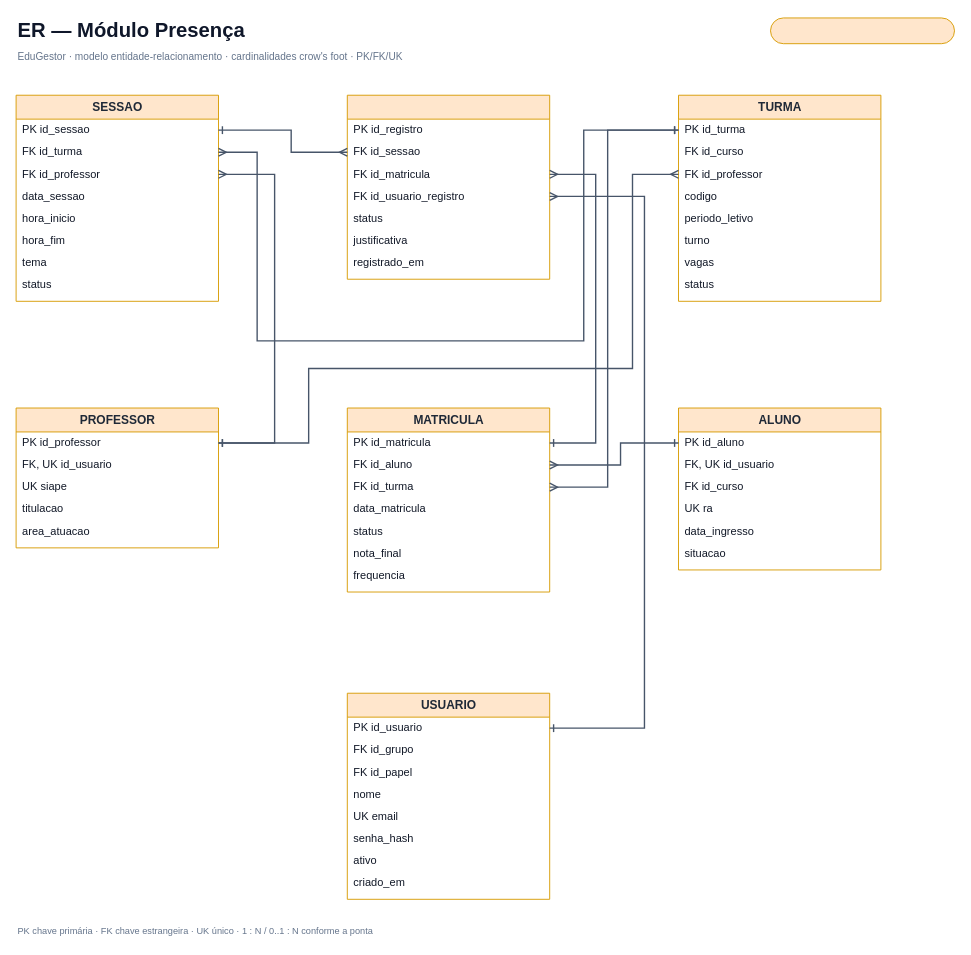
This 971x955 diagram has some shape labels left out. The box of each missing label's shape, as (x1, y1, x2, y2) in pixels:
Módulo Presença: (770, 17, 954, 44)
REGISTRO_PRESENCA: (346, 94, 550, 279)
